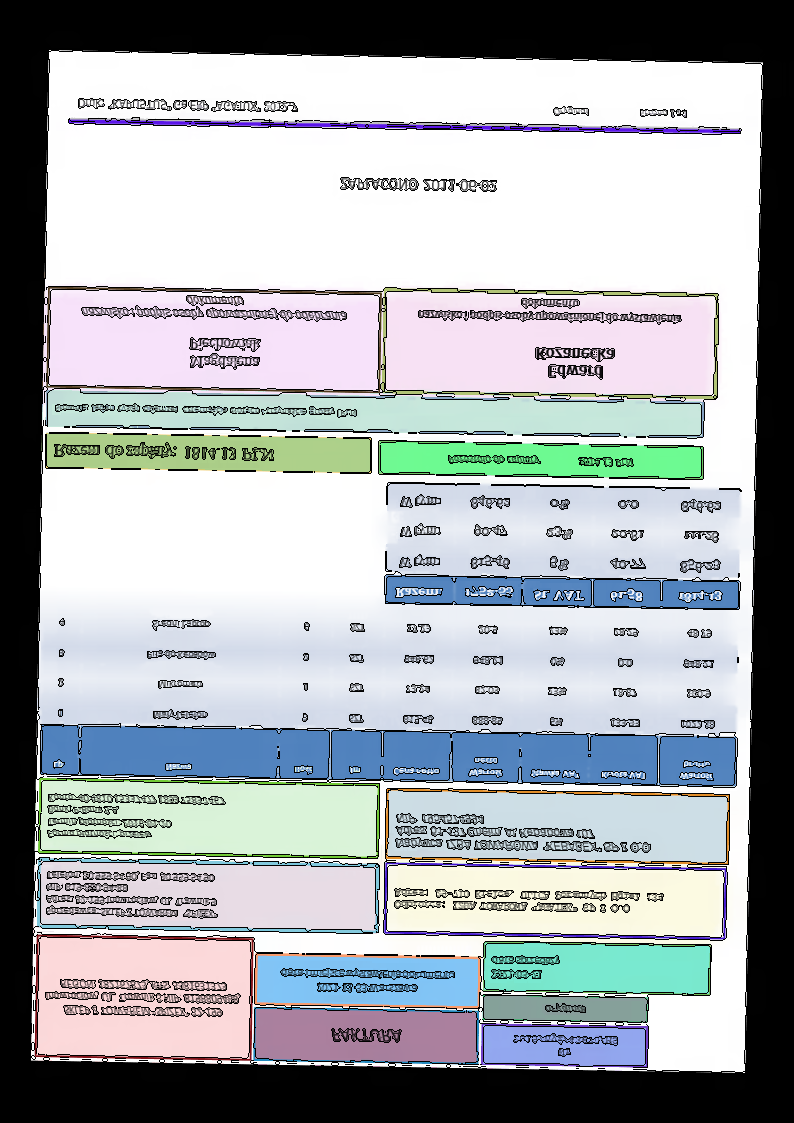Table: (37, 601, 741, 789), (383, 480, 744, 609)
TextBox: (390, 809, 658, 859), (44, 787, 227, 845), (415, 292, 686, 330), (391, 882, 668, 919), (42, 867, 220, 922), (41, 974, 245, 1021), (77, 292, 351, 326), (49, 398, 364, 426), (49, 439, 274, 467), (277, 966, 457, 1000), (72, 91, 301, 117), (336, 169, 504, 200), (445, 449, 638, 473), (532, 341, 618, 387), (510, 1028, 622, 1061), (185, 332, 263, 373), (549, 104, 690, 124), (487, 949, 562, 986), (327, 1024, 402, 1048), (542, 1000, 589, 1016)
